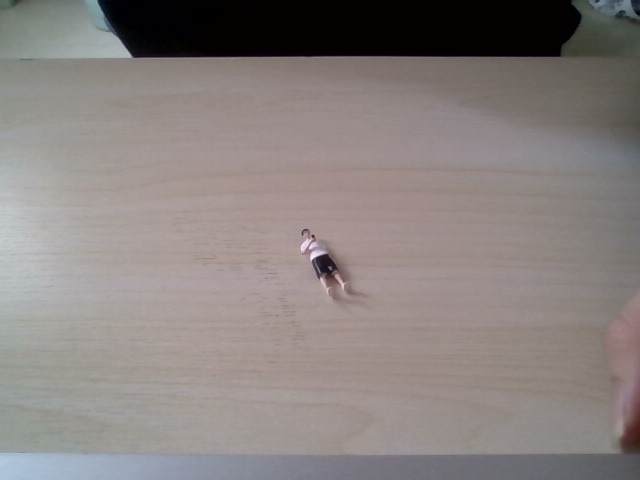fall: (293, 222, 353, 302)
